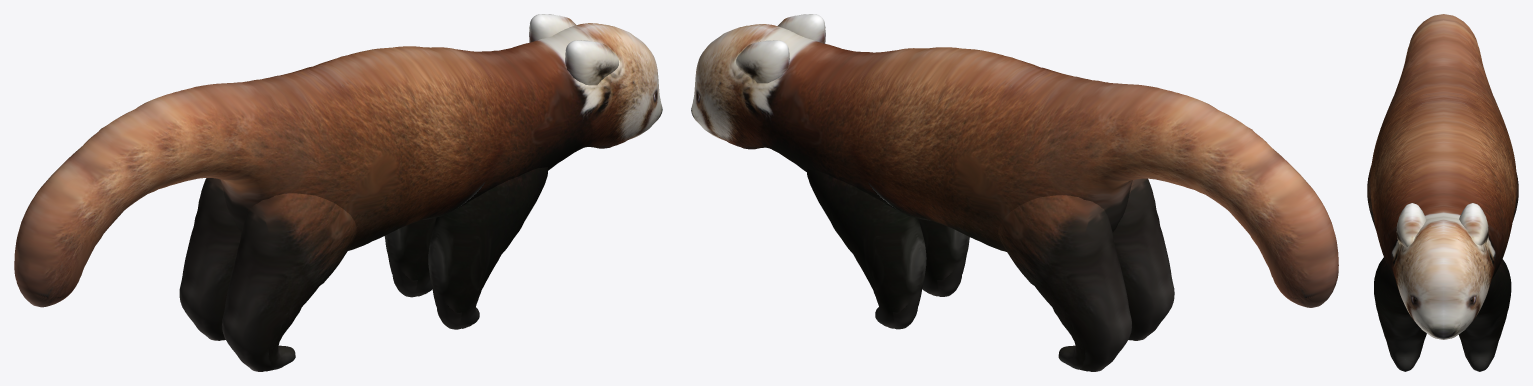
File: red-panda.glb
The picture shows the model from 3 angles, left to right: view 1: azimuth 30°, elevation 25°; view 2: azimuth 150°, elevation 25°; view 3: azimuth 270°, elevation 25°; orthographic projection. The views are drawn at different scales.
Visible parts, largest first — view 1: mm_frame (30); view 2: mm_frame (30); view 3: mm_frame (30).
Part boxes in pixels (x1=…): mm_frame (30): x1=14, y1=14, x2=662, y2=371; mm_frame (30): x1=691, y1=14, x2=1338, y2=371; mm_frame (30): x1=1367, y1=14, x2=1518, y2=371.
Size of the model in its own units: 8.87 by 3.66 by 2.15.
Materials: 1 (1 with a texture image).
